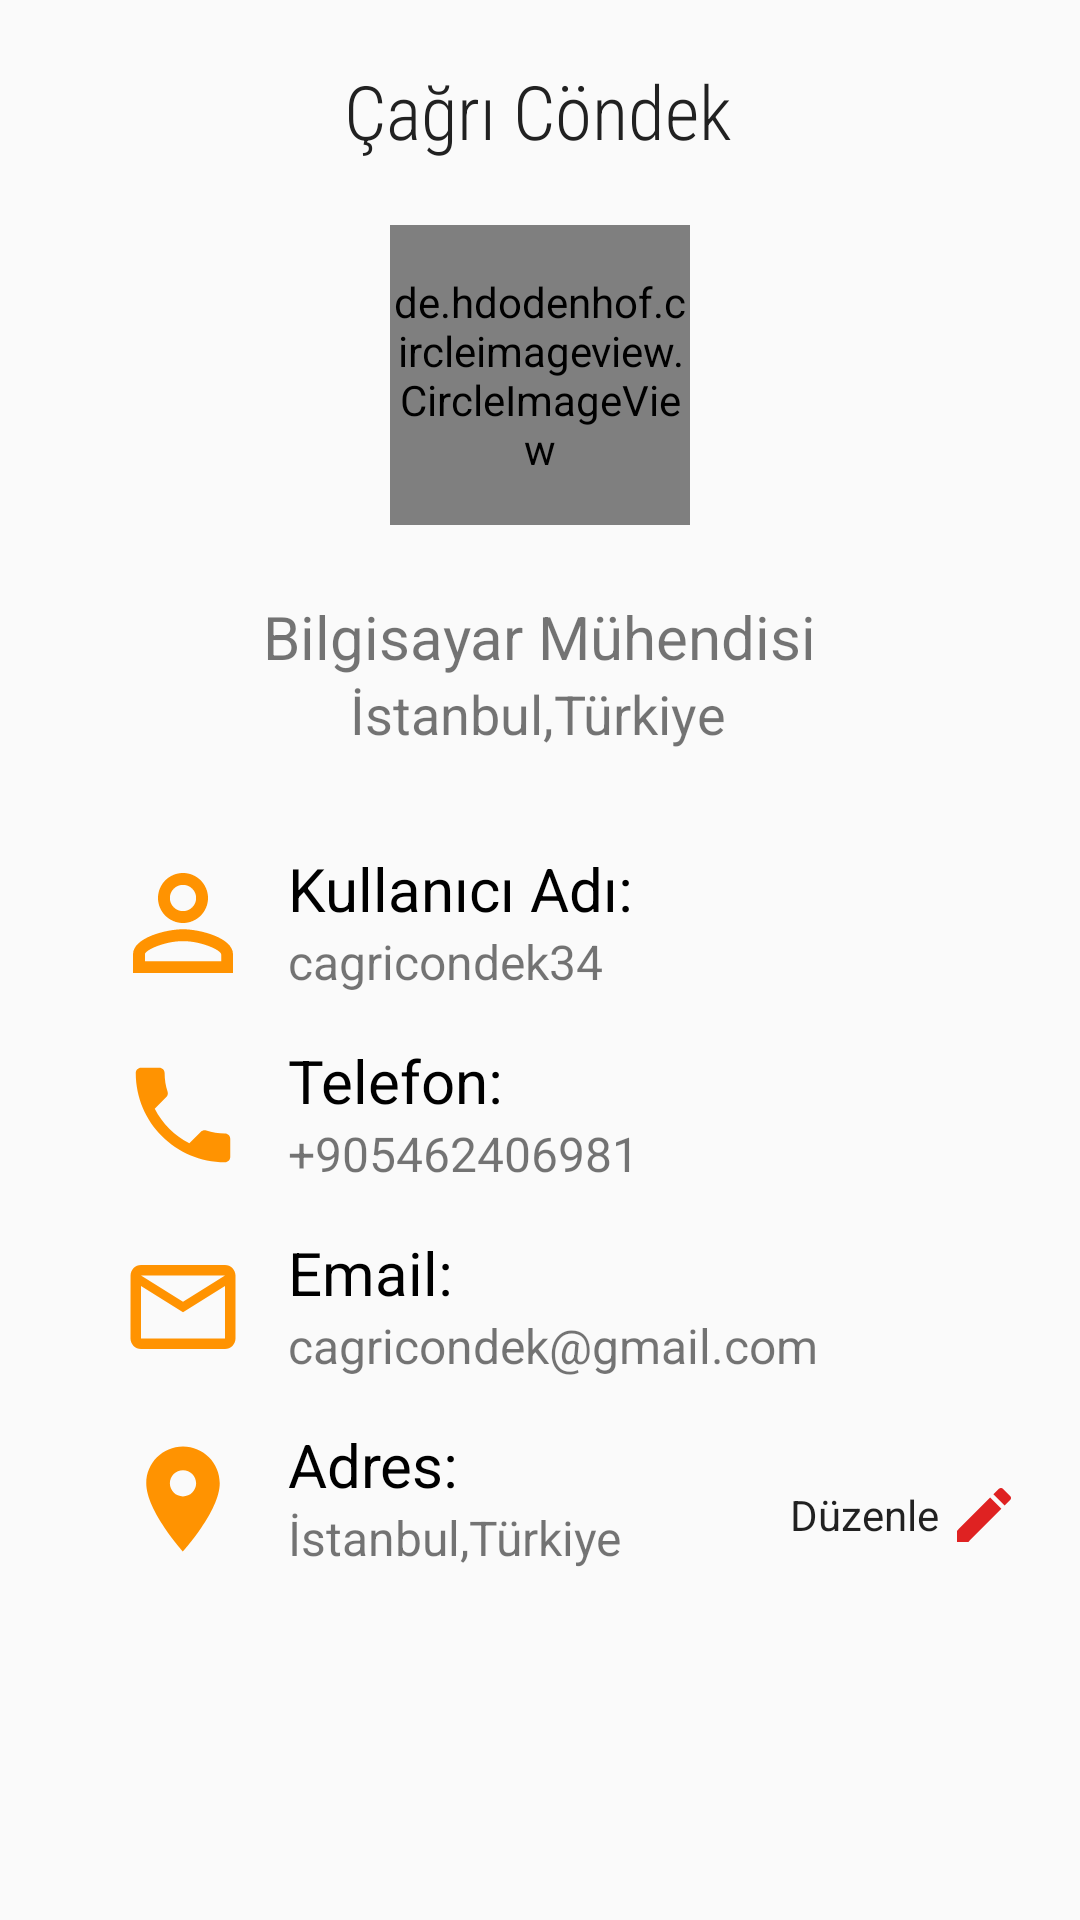

Where to tap for icons on this 1080×1920 app screen, as (x,y):
address: (183,1499)
phone: (183,1115)
profile: (183,923)
